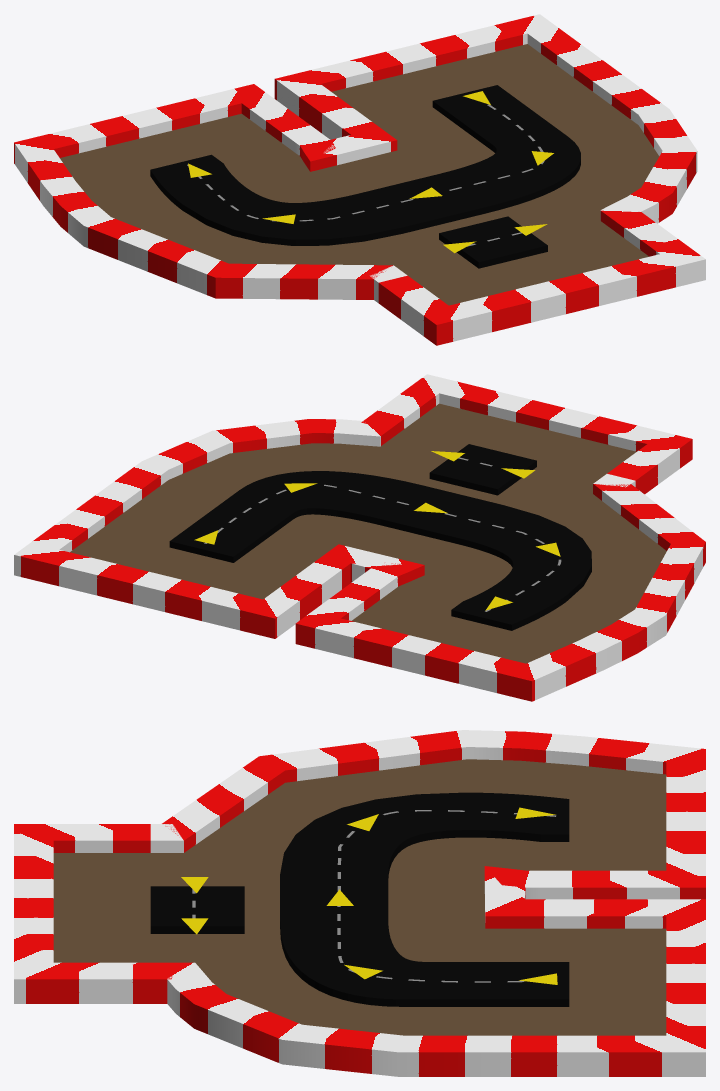
File: beh.FBX
3 views of the same model, one above another, from view 1: azimuth 30°, elevation 25°; view 2: azimuth 150°, elevation 25°; view 3: azimuth 270°, elevation 25° (orthographic). The views are drawn at different scales.
Parts seen in each view (by area): view 1: ba2_coll, ba2_floor, ba2; view 2: ba2_coll, ba2_floor, ba2; view 3: ba2_floor, ba2_coll, ba2, Line0.
Boxes of the visible parts, x1,y1,x2,y2 form: ba2_coll: (14,14,705,345); ba2_floor: (60,44,659,305); ba2: (150,85,580,268); ba2_coll: (14,374,705,701); ba2_floor: (70,403,666,663); ba2: (169,444,591,630); ba2_floor: (53,759,666,1035); ba2_coll: (14,730,705,1076); ba2: (150,792,569,1006); Line0: (337,810,556,982).
Size of the model in its own units: 922 by 32.76 by 836.
